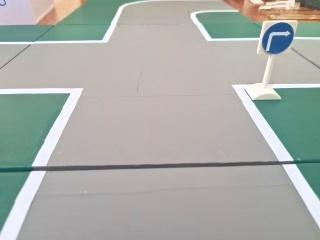right: (255, 17, 305, 57)
